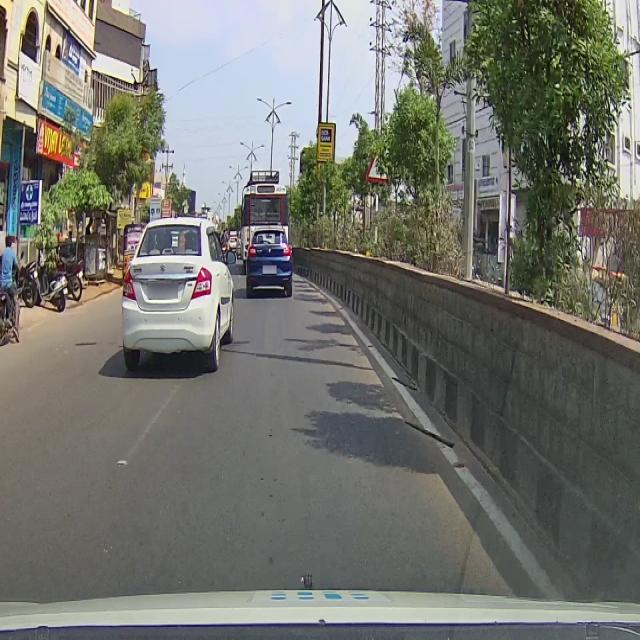car ahead at: (124, 212, 234, 374), (247, 228, 295, 286)
